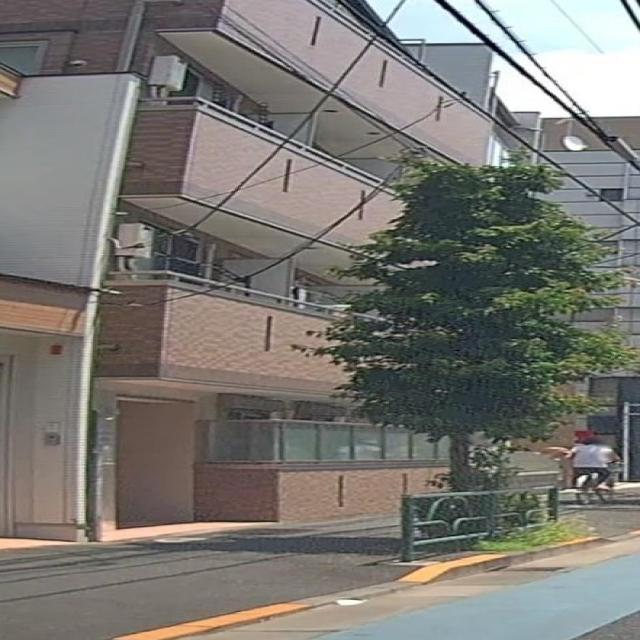maple: (288, 142, 640, 538)
